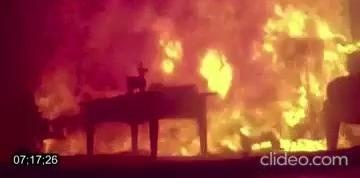fire: (47, 0, 360, 150)
